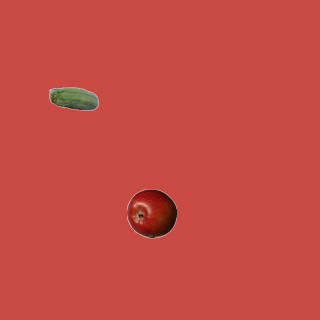Apple Braeburn: (126, 188, 176, 238)
Corn Husk: (48, 75, 98, 125)
